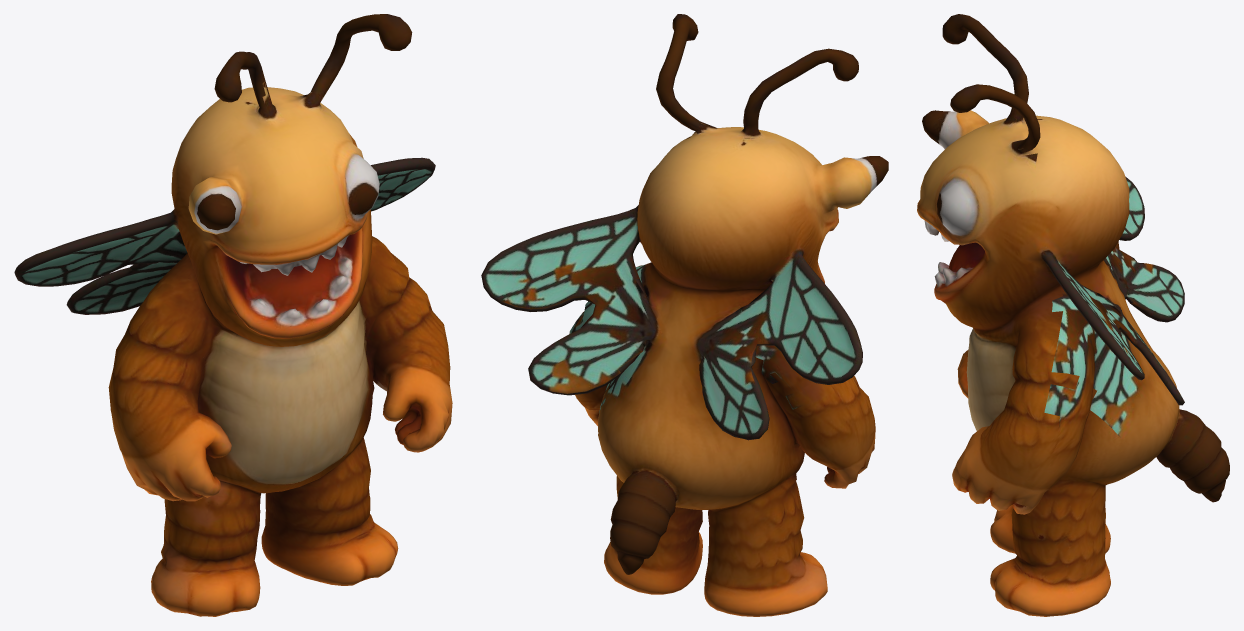
Rendered from bee2_remash.glb.
3 renders of one model, left to right at view 1: azimuth 30°, elevation 25°; view 2: azimuth 150°, elevation 25°; view 3: azimuth 270°, elevation 25°, orthographic. The views are drawn at different scales.
Visible parts, largest first — view 1: DanyaPrivet; view 2: DanyaPrivet; view 3: DanyaPrivet.
Part boxes in pixels (<box>): DanyaPrivet: <box>14,14,452,616</box>; DanyaPrivet: <box>481,14,888,616</box>; DanyaPrivet: <box>917,14,1229,616</box>.
Size of the model in its own units: 0.8081 by 1.07 by 0.5831.
1 material, 1 textured.
